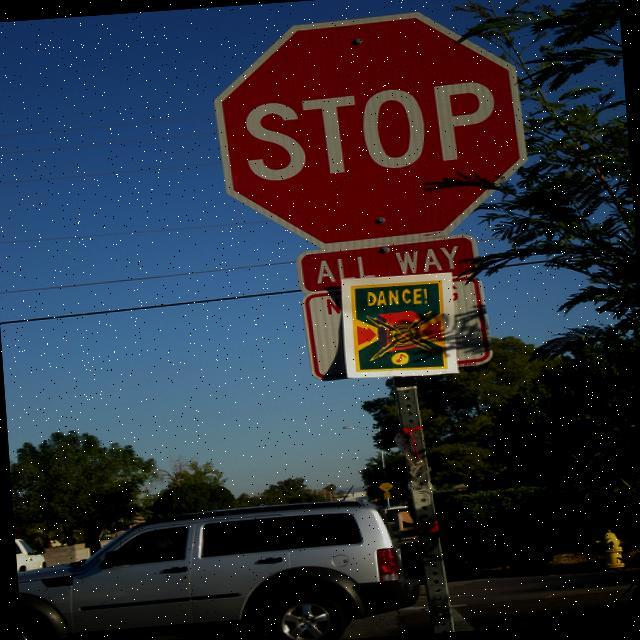fire_hydrant: (592, 528, 626, 572)
